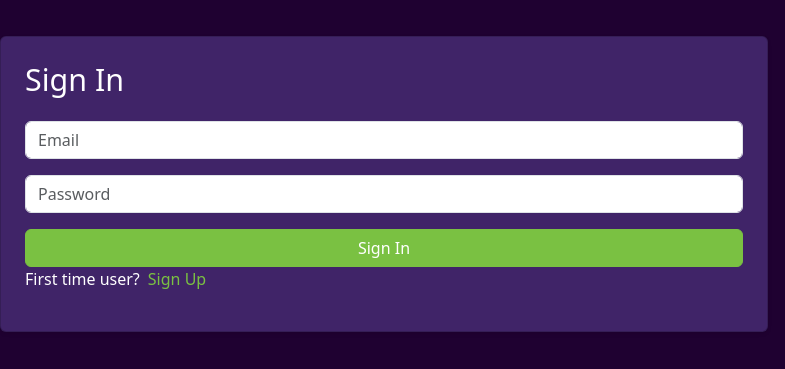
Test: SignIn Component › displays an error message on failed sign-in
Simulate user input.
Type "wrong@example.com" into the field with placeholder "Email".
click(384, 140); type("wrong@example.com")  # box 25,121 -> 743,159
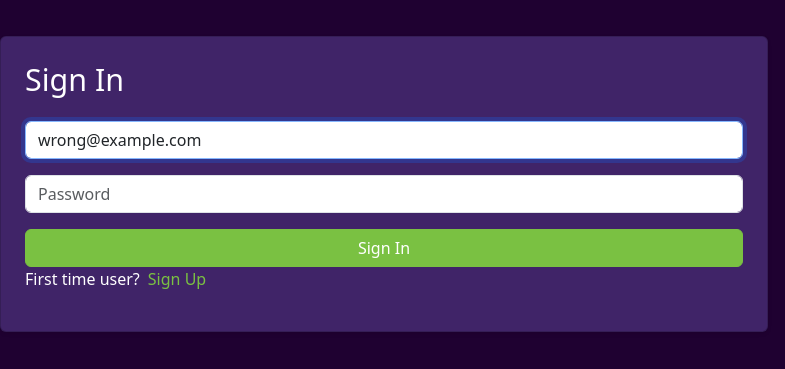
Type "wrongpassword" into the password field with placeholder "Password".
click(384, 194); type("wrongpassword")  # box 25,175 -> 743,213
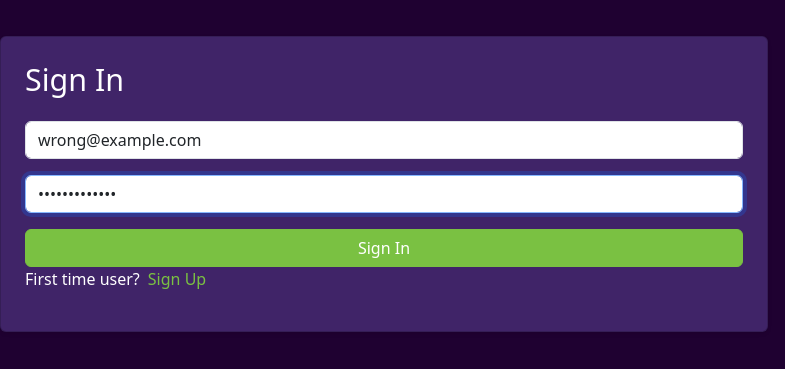
Click the button "Sign In".
click(384, 248)  # box 25,229 -> 743,267
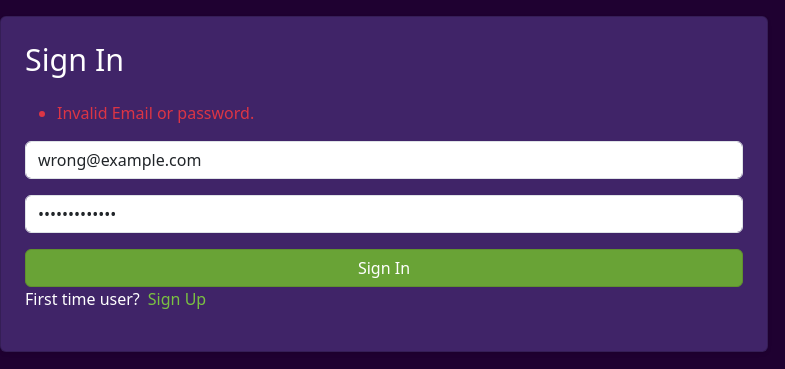
Expected: the list item "Invalid Email or password." is shown, 57,102 -> 254,124
